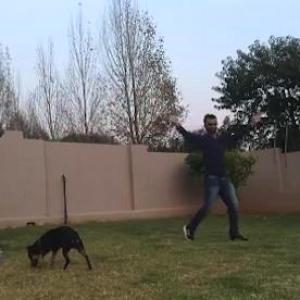takeoff: (127, 113, 244, 240)
